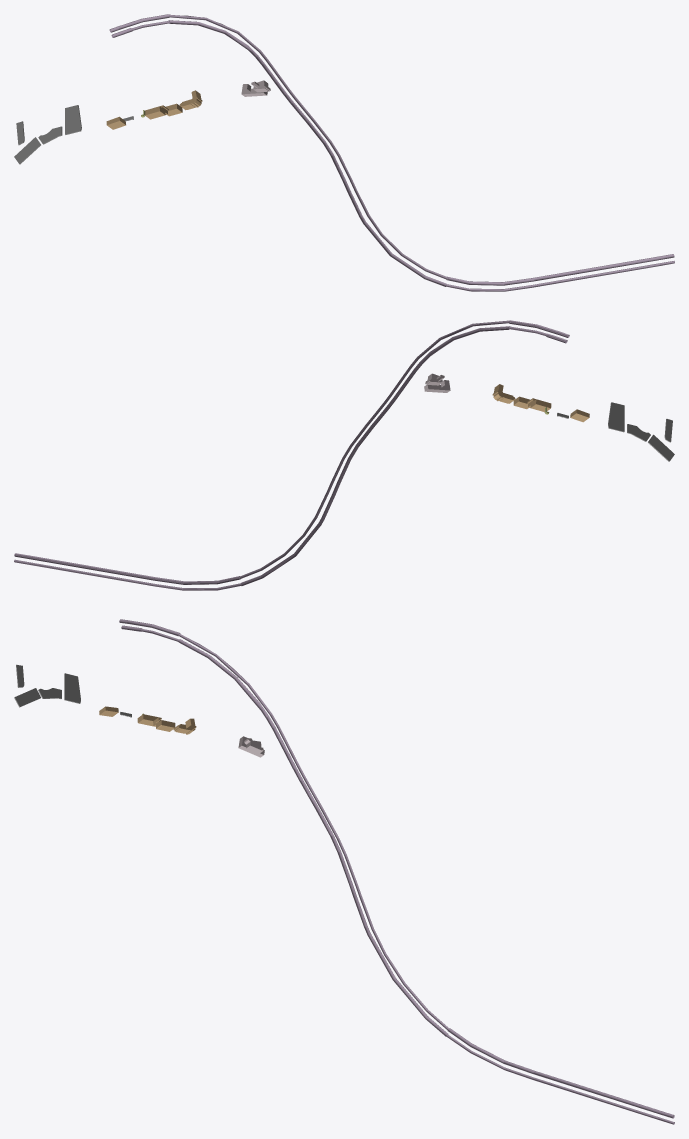
The picture shows the model from 3 angles, top to bottom: view 1: azimuth 30°, elevation 25°; view 2: azimuth 150°, elevation 25°; view 3: azimuth 330°, elevation 25°; orthographic projection.
Visible parts, largest first — view 1: 0_0_3_2; view 2: 0_0_3_2; view 3: 0_0_3_2.
Part boxes in pixels (x1=…): 0_0_3_2: x1=14, y1=14, x2=674, y2=291; 0_0_3_2: x1=14, y1=320, x2=674, y2=590; 0_0_3_2: x1=14, y1=619, x2=674, y2=1124.
Bounding box in the file's own units: 1634 × 875 × 58.7.
